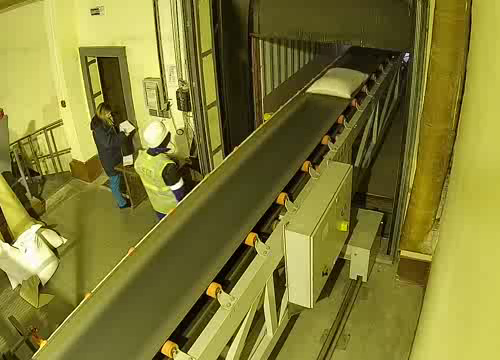bag: (299, 60, 374, 105)
